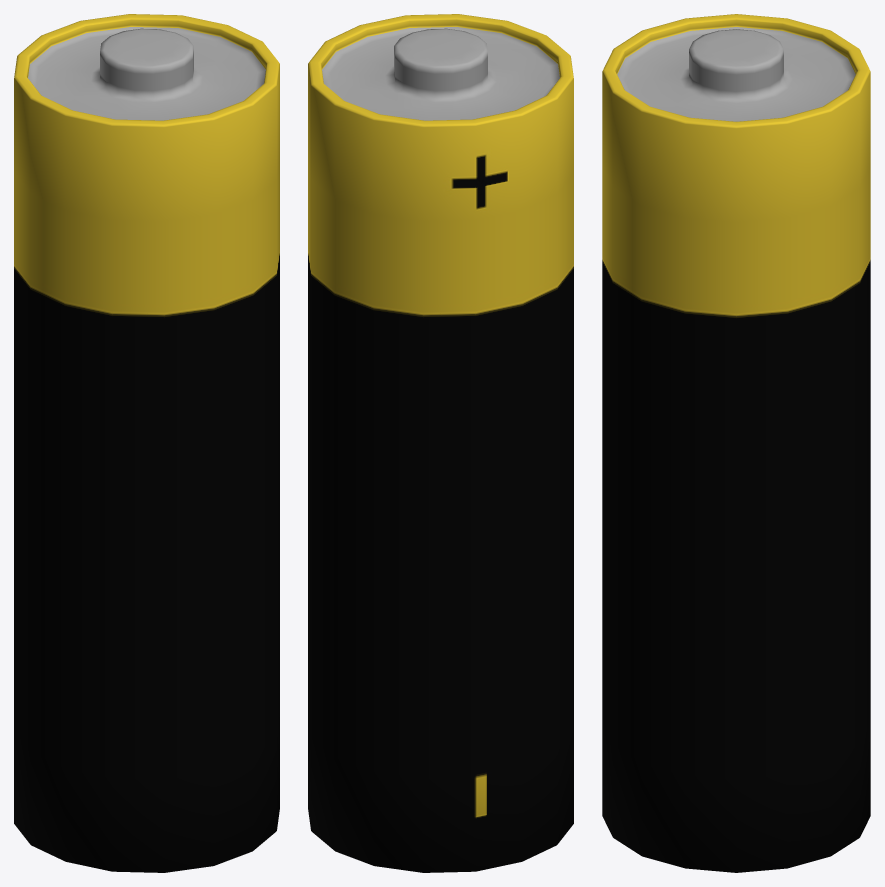
The model's file is battery.FBX.
The picture shows the model from 3 angles, left to right: view 1: azimuth 30°, elevation 25°; view 2: azimuth 150°, elevation 25°; view 3: azimuth 270°, elevation 25°; orthographic projection.
Parts seen in each view (by area): view 1: battery; view 2: battery; view 3: battery.
Boxes of the visible parts, <box> form: battery: <box>14,14,279,872</box>; battery: <box>308,14,573,872</box>; battery: <box>602,14,870,872</box>.
Size of the model in its own units: 3.39 by 10.71 by 3.39.
1 material, 1 textured.
